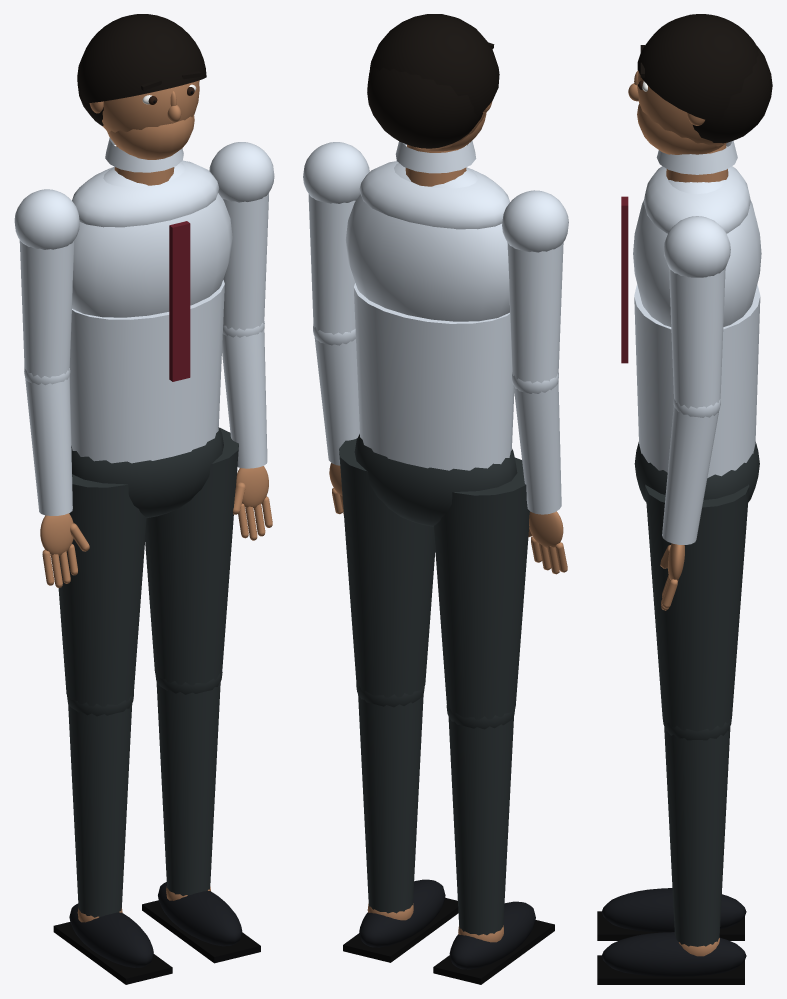
Rendered from villager-teacher.glb.
3 renders of one model, left to right at view 1: azimuth 30°, elevation 25°; view 2: azimuth 150°, elevation 25°; view 3: azimuth 270°, elevation 25°, orthographic. The views are drawn at different scales.
Visible parts, largest first — view 1: leg (×2), arm (×2), object 1, object 2, object 23, object 3, villager-teacher, object 5, object 8, object 9, object 7, object 6; view 2: leg (×2), arm (×2), object 1, object 2, object 23, object 24, object 3, villager-teacher, object 7, object 6; view 3: leg (×2), arm, object 1, object 23, object 2, object 3, object 24, villager-teacher, object 8, object 7, object 9, object 5 (+1 smaller).
Boxes of the visible parts, <box> form: leg (×2): <box>53,427,260,984</box>; arm (×2): <box>14,142,274,587</box>; object 1: <box>69,280,224,463</box>; object 2: <box>72,162,232,317</box>; object 23: <box>79,14,206,102</box>; object 3: <box>72,160,219,227</box>; villager-teacher: <box>71,427,223,517</box>; object 5: <box>169,221,190,381</box>; object 8: <box>102,80,199,132</box>; object 9: <box>107,114,194,159</box>; object 7: <box>105,137,183,172</box>; object 6: <box>114,146,174,185</box>; leg (×2): <box>339,438,554,984</box>; arm (×2): <box>303,142,568,574</box>; object 1: <box>353,283,514,470</box>; object 2: <box>346,163,509,321</box>; object 23: <box>369,14,499,116</box>; object 24: <box>367,67,482,148</box>; object 3: <box>359,161,509,229</box>; villager-teacher: <box>354,434,517,526</box>; object 7: <box>395,141,476,173</box>; object 6: <box>405,144,466,186</box>; leg (×2): <box>597,484,749,984</box>; arm: <box>660,216,730,610</box>; object 1: <box>634,285,760,477</box>; object 23: <box>637,14,758,123</box>; object 2: <box>633,179,761,326</box>; object 3: <box>643,166,750,233</box>; object 24: <box>692,46,772,143</box>; villager-teacher: <box>634,442,759,501</box>; object 8: <box>637,72,727,146</box>; object 7: <box>656,140,737,174</box>; object 9: <box>637,103,724,154</box>; object 5: <box>621,196,628,363</box>.
Bounding box in the file's own units: 0.5851 × 2.03 × 0.3457.
